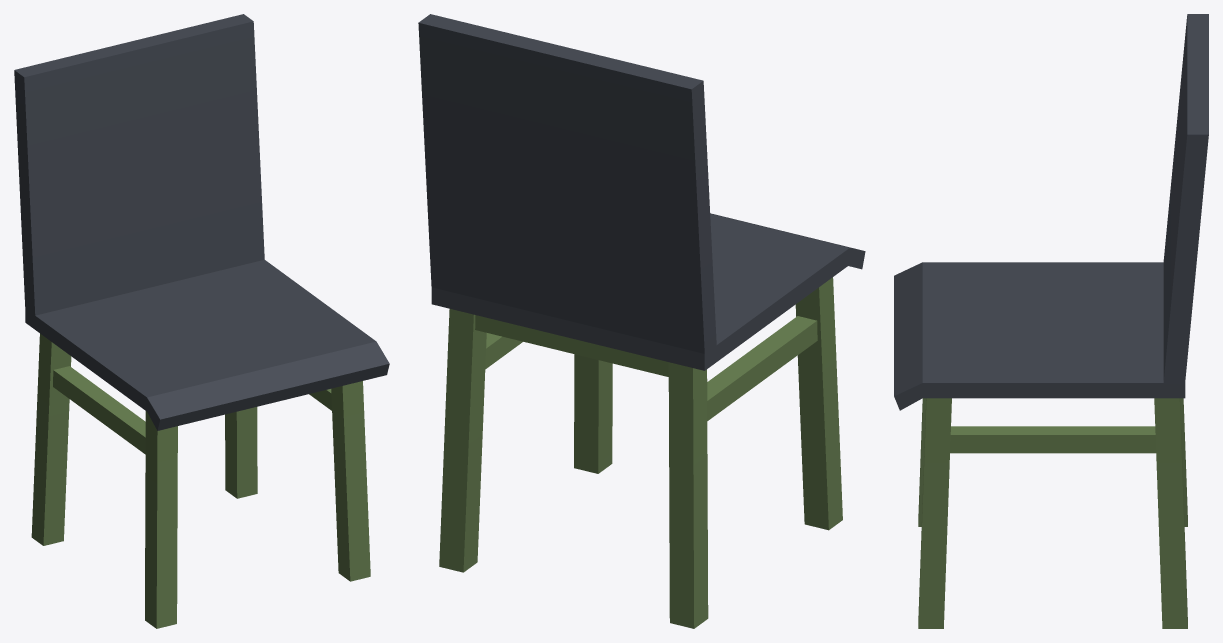
File: Chair_01.fbx
The picture shows the model from 3 angles, left to right: view 1: azimuth 30°, elevation 25°; view 2: azimuth 150°, elevation 25°; view 3: azimuth 270°, elevation 25°; orthographic projection. The views are drawn at different scales.
Visible parts, largest first — view 1: Chair_01; view 2: Chair_01; view 3: Chair_01.
Part boxes in pixels (bbox=[...]): Chair_01: bbox=[14, 14, 389, 628]; Chair_01: bbox=[418, 14, 865, 628]; Chair_01: bbox=[894, 14, 1208, 628].
Bounding box in the file's own units: 0.5254 × 1.01 × 0.5791.
